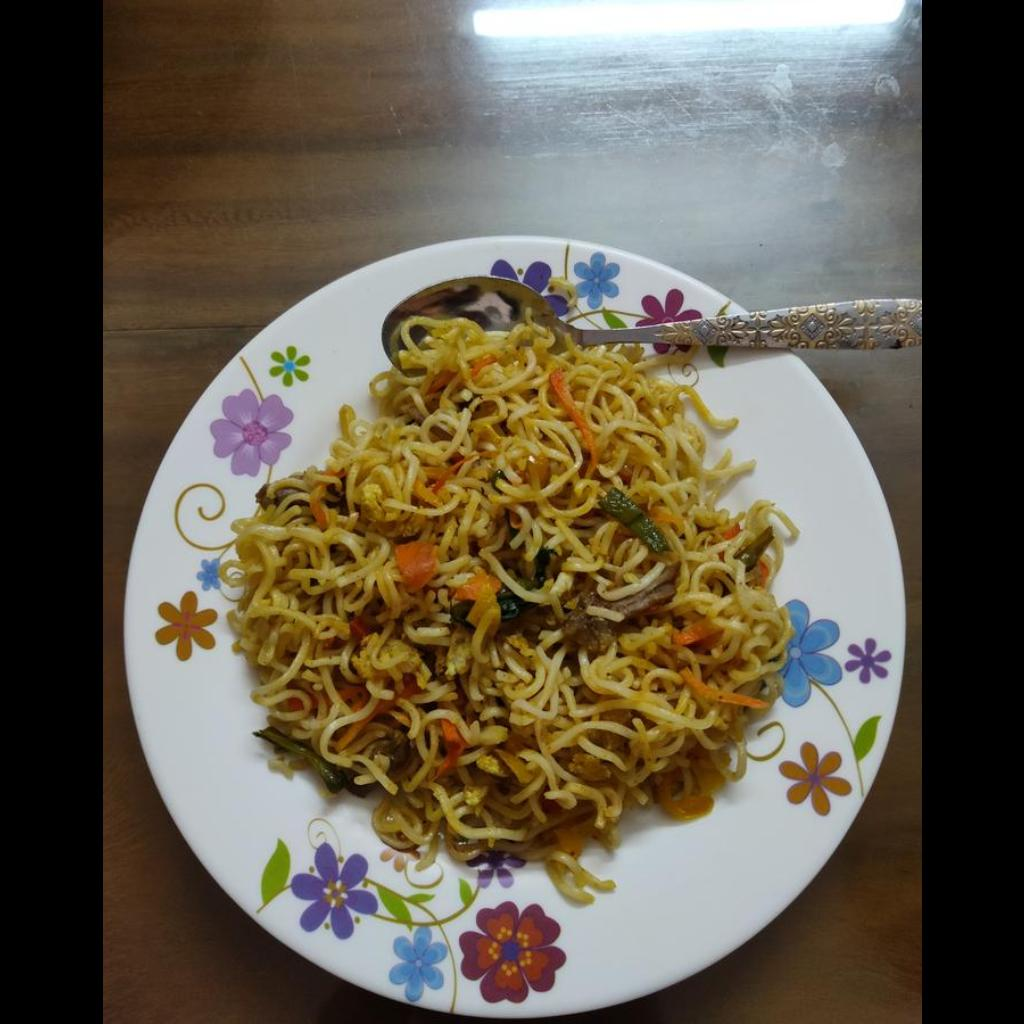noodles: (229, 316, 792, 860)
